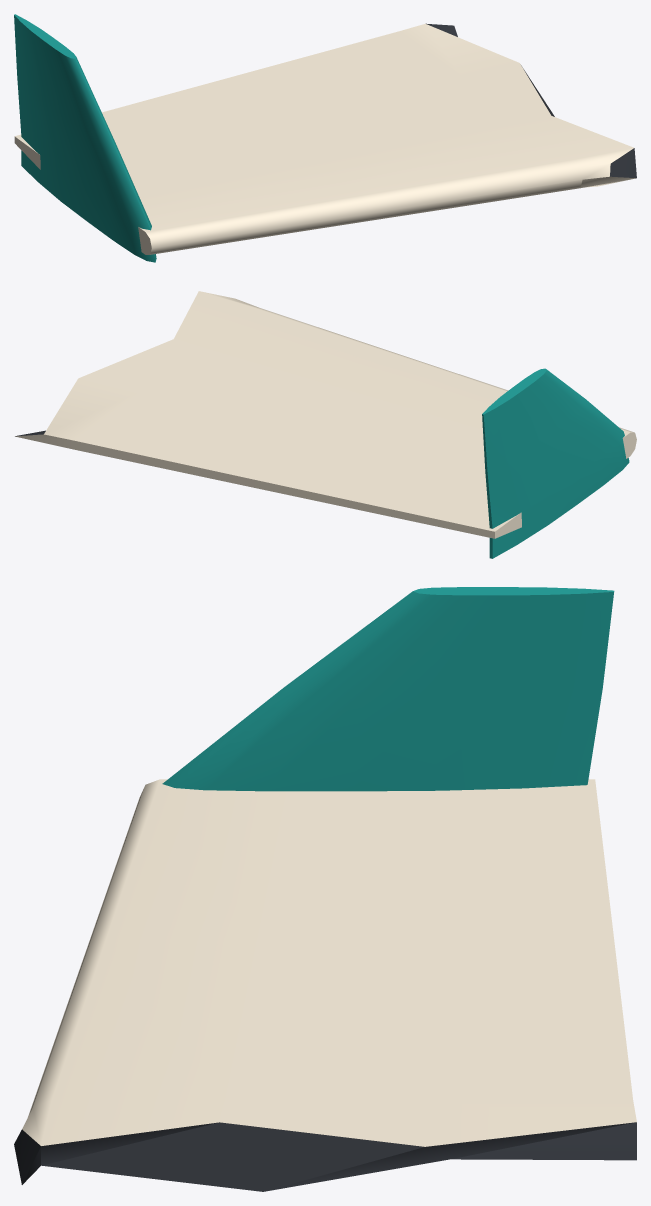
File: RotPuntaDer.fbx
The picture shows the model from 3 angles, top to bottom: view 1: azimuth 30°, elevation 25°; view 2: azimuth 150°, elevation 25°; view 3: azimuth 270°, elevation 25°; orthographic projection. The views are drawn at different scales.
Parts seen in each view (by area): view 1: RotPuntaDer; view 2: RotPuntaDer; view 3: RotPuntaDer.
Part boxes in pixels (x1,y1,x2,y2): RotPuntaDer: (14, 14, 636, 262); RotPuntaDer: (15, 291, 636, 558); RotPuntaDer: (14, 587, 636, 1191).
Bounding box in the file's own units: 11.53 × 3.52 × 8.2.
1 material, 1 textured.
